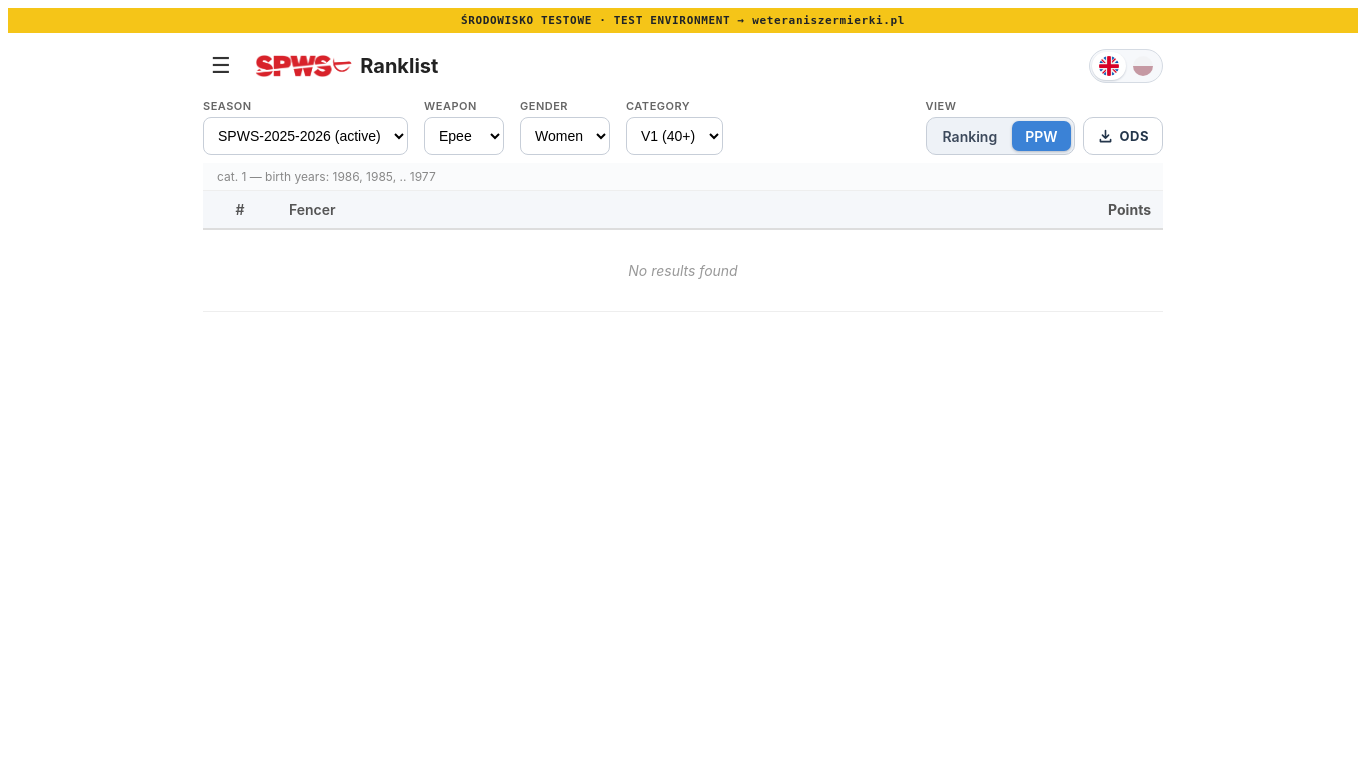
SS26.UIHIST — publication boundary and staleness › discards a stale ranking response that resolves after a newer request started
The width and height of the screenshot is (1366, 768).
Step 1. Click the button with class "toggle-btn" showing "Ranking" → (970, 136), box [930, 121, 1010, 151]
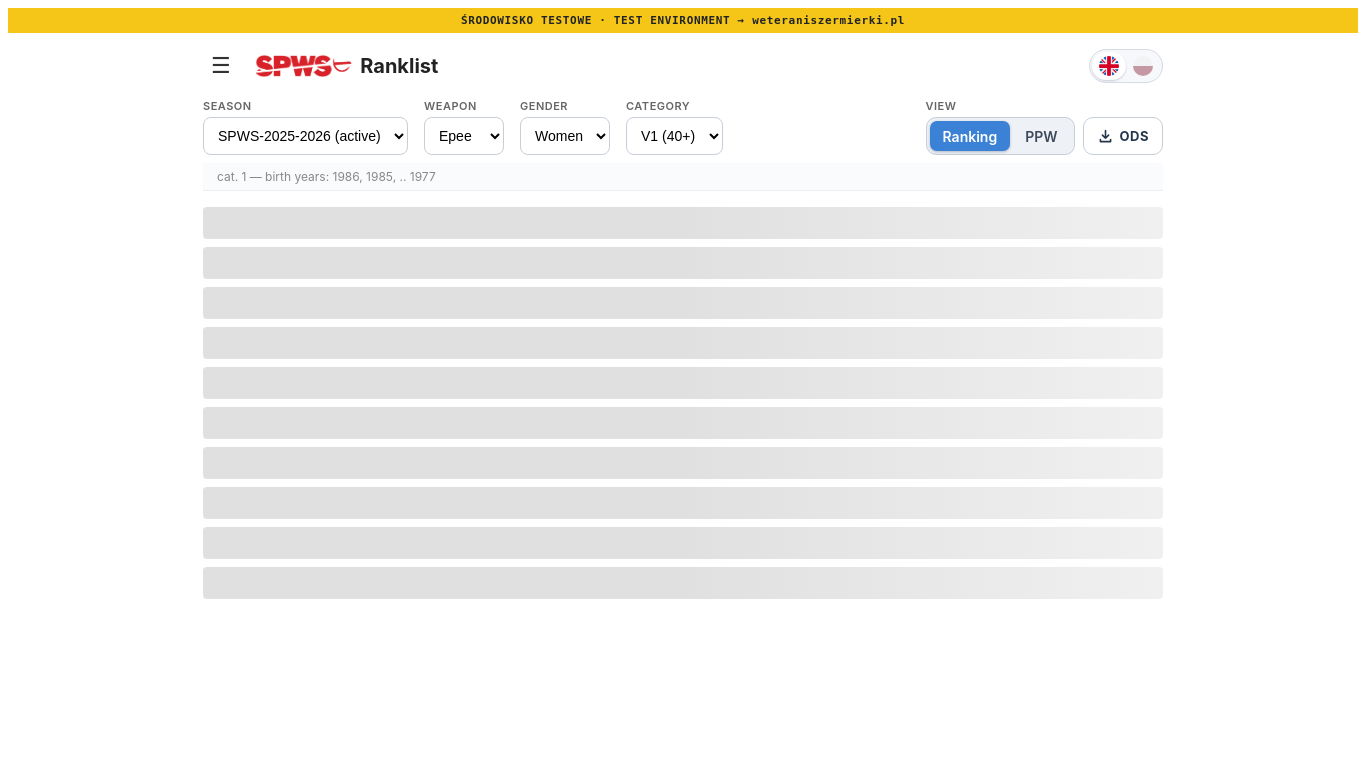
Step 2. Click the button with class "toggle-btn" showing "PPW" → (1041, 136), box [1012, 121, 1070, 151]
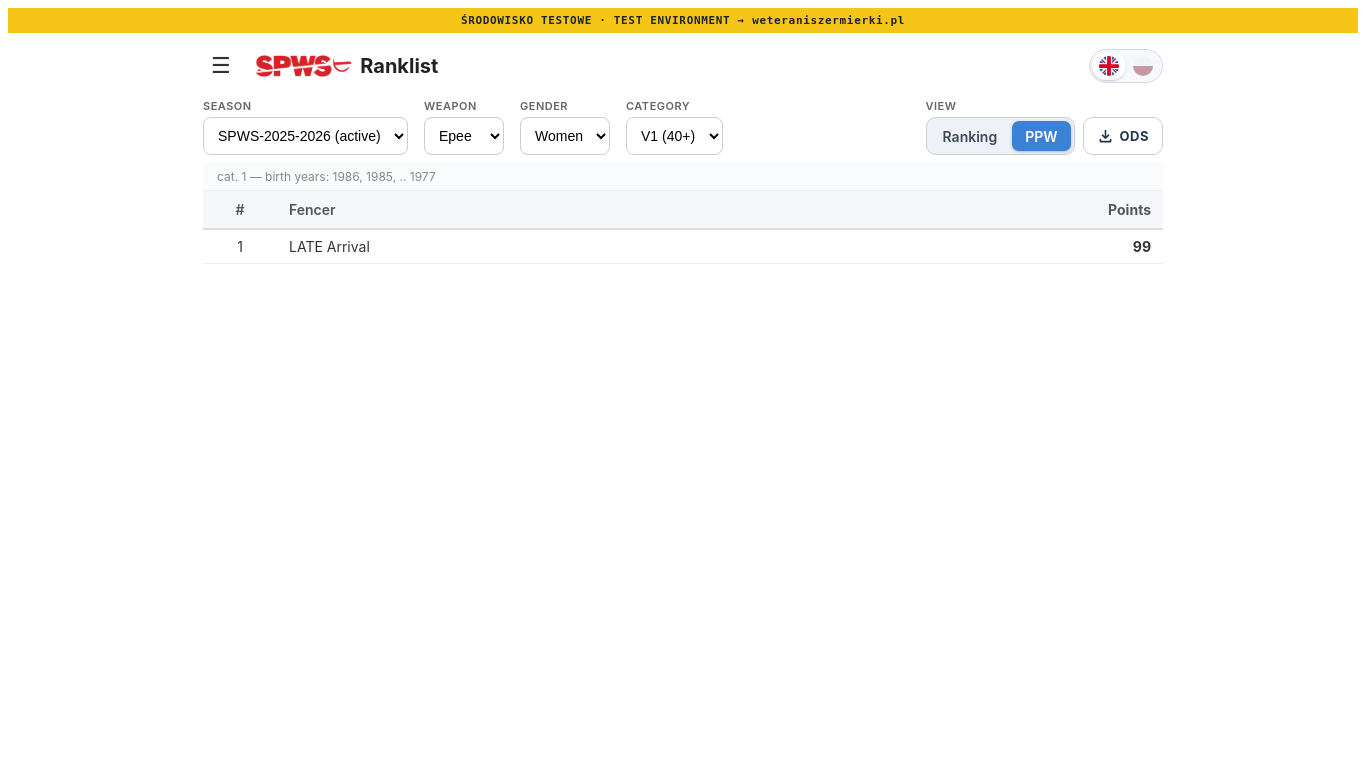
Check: the text "LATE Arrival" is shown, box [277, 229, 1039, 264]
